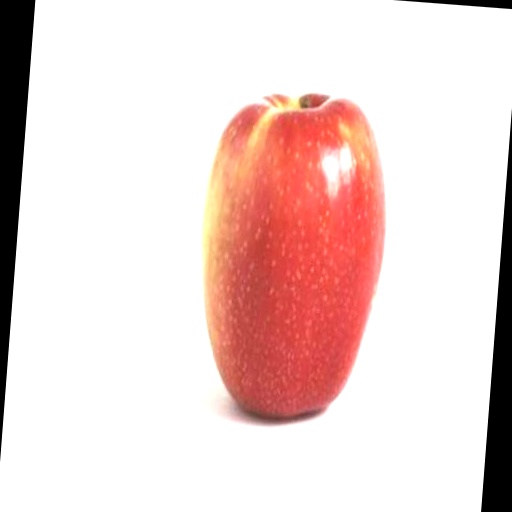fruit: (201, 94, 386, 417)
